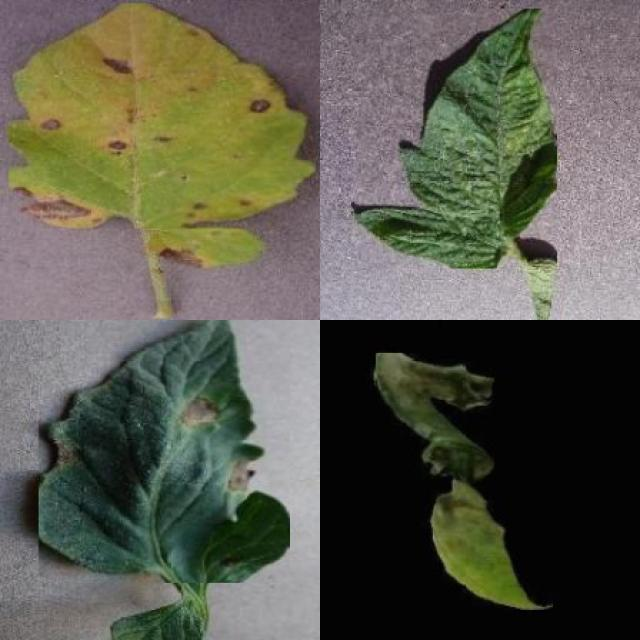Early Blight: (39, 320, 290, 583)
Late Blight: (376, 354, 554, 610)
Septoria: (8, 4, 316, 229)
Spider Mites: (354, 8, 556, 268)
